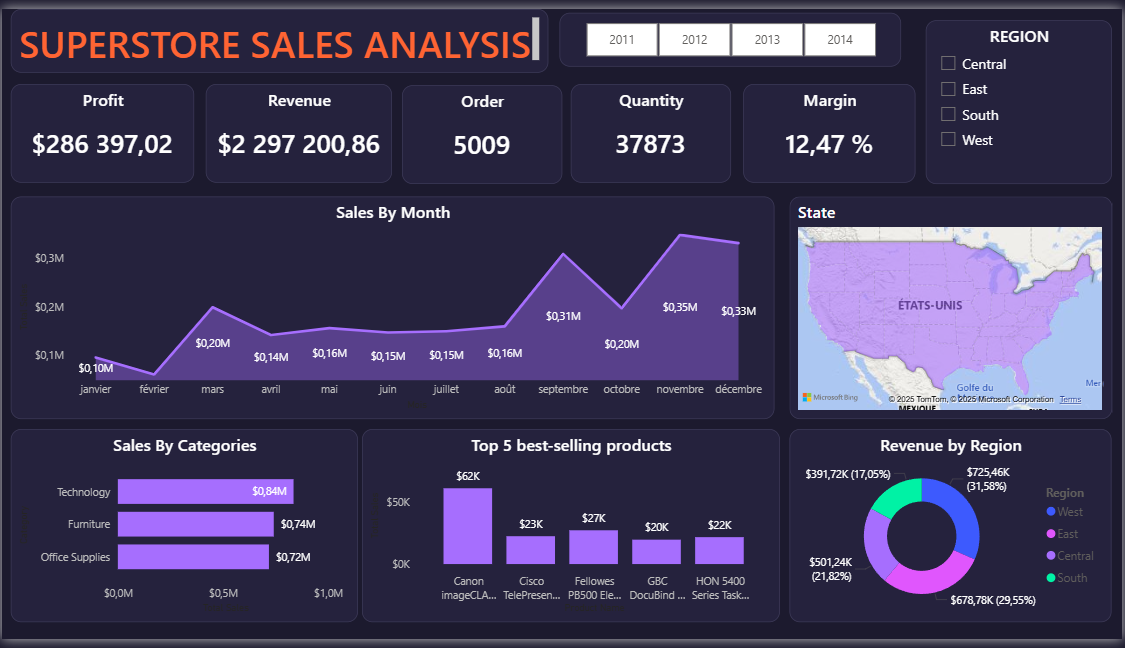

The dashboard page shown, as its layout file describes it:
{"tool":"powerbi","page":{"name":"Page 1","canvas":[1280,720],"ordinal":0},"visuals":[{"type":"textbox","box":[9.4,0,614.6,72.6],"z":0},{"type":"card","title":"Profit","fields":{"Values":["Orders.Total Profit"]},"box":[9.4,86.1,209.8,113],"z":1000},{"type":"card","title":"Revenue","fields":{"Values":["Orders.Total Sales"]},"box":[232.9,85.7,212.9,112.9],"z":2000},{"type":"card","title":"Order","fields":{"Values":["Orders.Order Count"]},"box":[457.1,87.1,182.9,112.9],"z":3000},{"type":"card","title":"Quantity","fields":{"Values":["Orders.Quantity Total"]},"box":[650,85.7,182.9,112.9],"z":4000},{"type":"card","title":"Margin","fields":{"Values":["Orders.Profit Margin"]},"box":[847.1,85.7,197.1,112.9],"z":5000},{"type":"stackedAreaChart","title":"Sales By Month","fields":{"Y":["Orders.Total Sales"],"Category":["Orders.Order Date.Variation.Hiérarchie de dates.Mois"]},"box":[9.4,213.8,872.8,254.2],"z":6000},{"type":"clusteredBarChart","title":"Sales By Categories","fields":{"Category":["Orders.Category"],"Y":["Orders.Total Sales"]},"box":[9.6,480.3,396.6,220.9],"z":7000},{"type":"columnChart","title":"Top 5 best-selling products","fields":{"Category":["Orders.Product Name"],"Y":["Orders.Total Sales"]},"box":[411.5,480.1,477.4,220.6],"z":8000},{"type":"filledMap","fields":{"Category":["Orders.State"]},"box":[899.7,213.8,368.5,254.2],"z":9000},{"type":"donutChart","title":"Revenue by Region","fields":{"Category":["Orders.Region"],"Y":["Orders.Total Sales"]},"box":[900,480,368,221],"z":10000},{"type":"slicer","title":"REGION","fields":{"Values":["Orders.Region"]},"box":[1055.7,12.9,212.9,187.1],"z":11000},{"type":"slicer","fields":{"Values":["Orders.Year"]},"box":[637.1,4.3,390,61.4],"z":12000}]}

Visuals, with their boxes in screenshot pixels (x1, y1, x2, y2), scaled from the page's 1280x720 canvas onto the 1125x648 screenshot:
textbox: {"left": 8, "top": 0, "right": 548, "bottom": 65}
"Profit" card: {"left": 8, "top": 77, "right": 193, "bottom": 179}
"Revenue" card: {"left": 205, "top": 77, "right": 392, "bottom": 179}
"Order" card: {"left": 402, "top": 78, "right": 562, "bottom": 180}
"Quantity" card: {"left": 571, "top": 77, "right": 732, "bottom": 179}
"Margin" card: {"left": 745, "top": 77, "right": 918, "bottom": 179}
"Sales By Month" stackedAreaChart: {"left": 8, "top": 192, "right": 775, "bottom": 421}
"Sales By Categories" clusteredBarChart: {"left": 8, "top": 432, "right": 357, "bottom": 631}
"Top 5 best-selling products" columnChart: {"left": 362, "top": 432, "right": 781, "bottom": 631}
filledMap - Orders.State: {"left": 791, "top": 192, "right": 1115, "bottom": 421}
"Revenue by Region" donutChart: {"left": 791, "top": 432, "right": 1114, "bottom": 631}
"REGION" slicer: {"left": 928, "top": 12, "right": 1115, "bottom": 180}
slicer - Orders.Year: {"left": 560, "top": 4, "right": 903, "bottom": 59}
